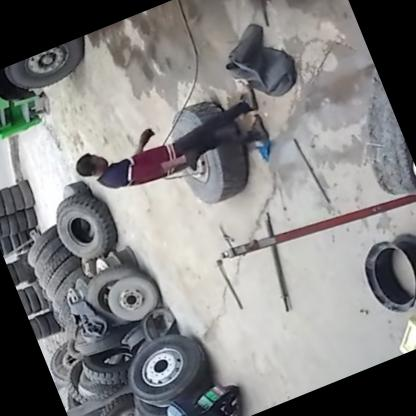Human Body: (65, 74, 272, 214)
